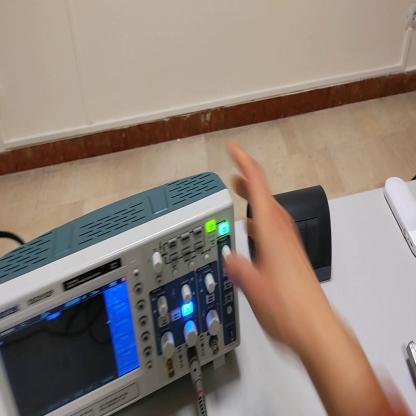hand: (220, 136, 319, 344)
oscilloscope: (1, 171, 241, 416)
